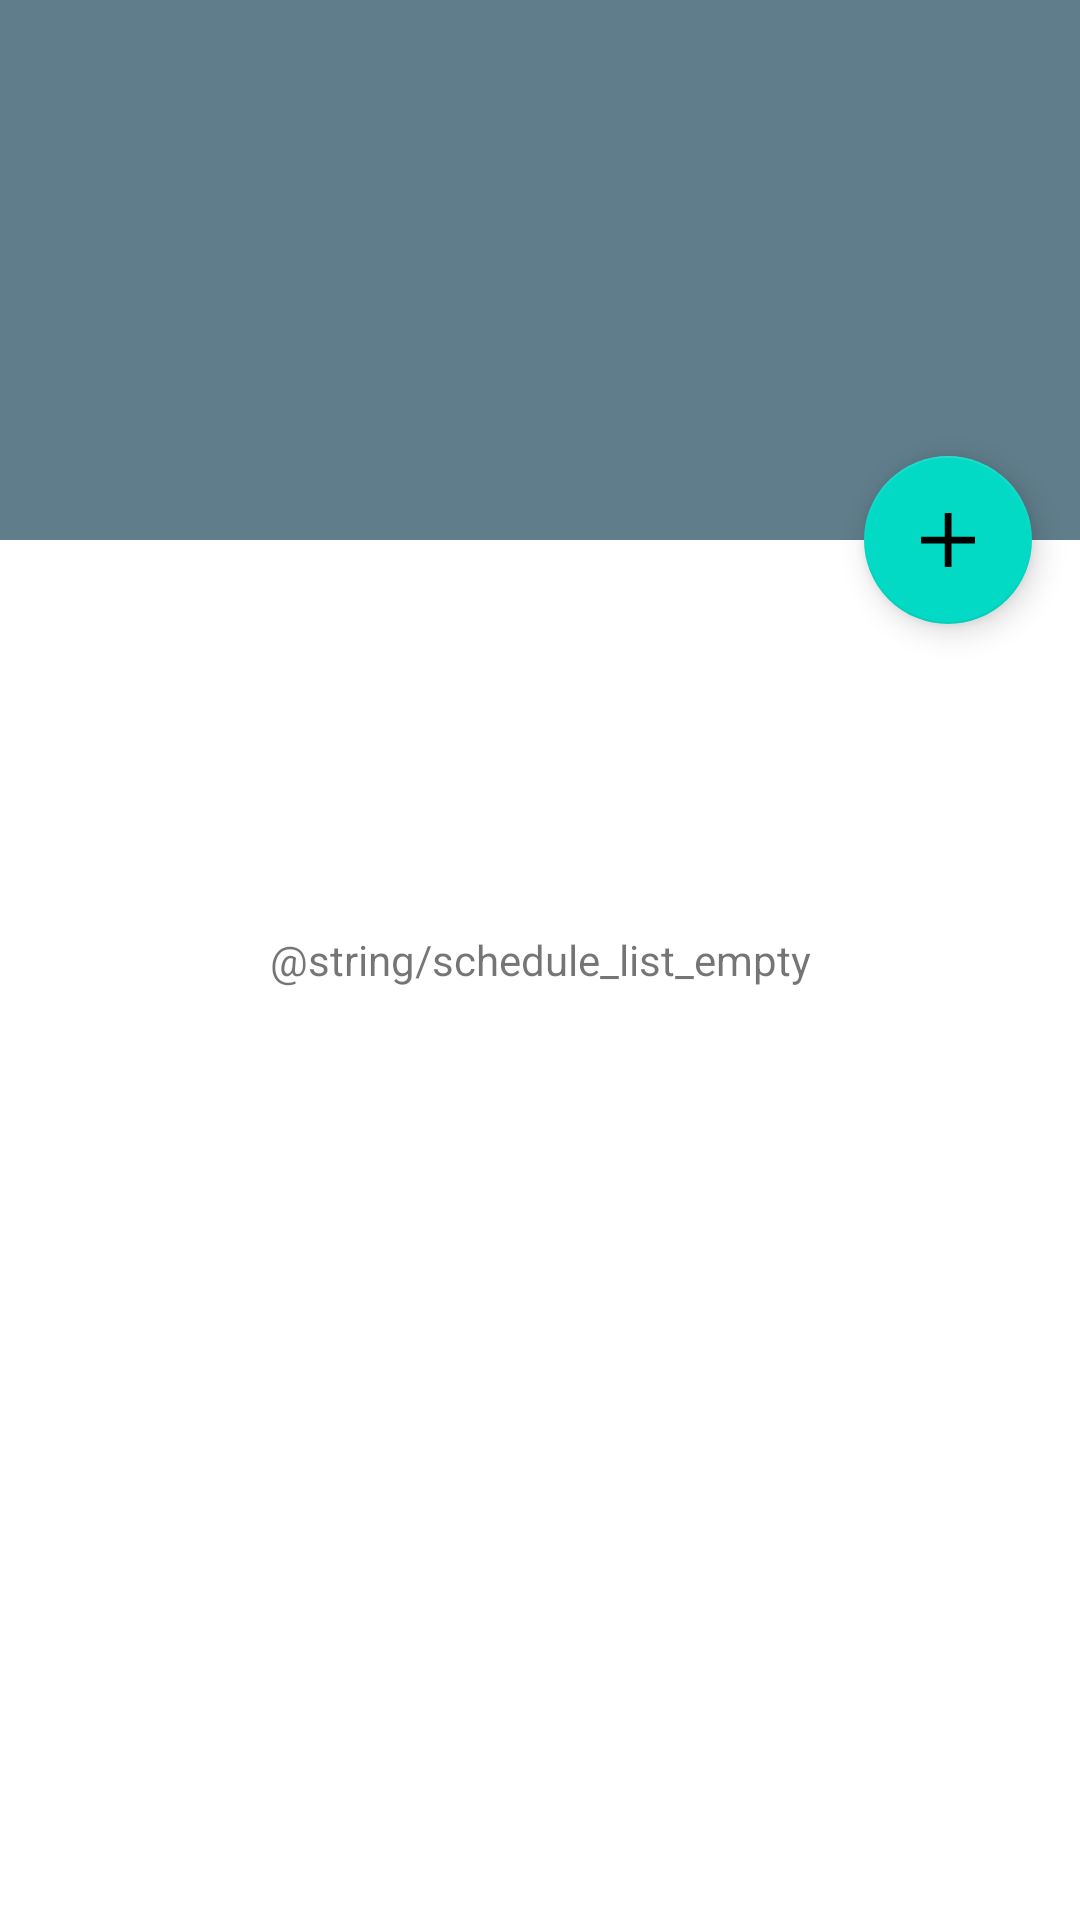

Point at icon controls on the screen. Image size 1080×1920, points as point (x, y).
add fat: point (948, 540)
